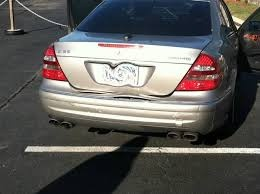Dent: (87, 58, 174, 110)
